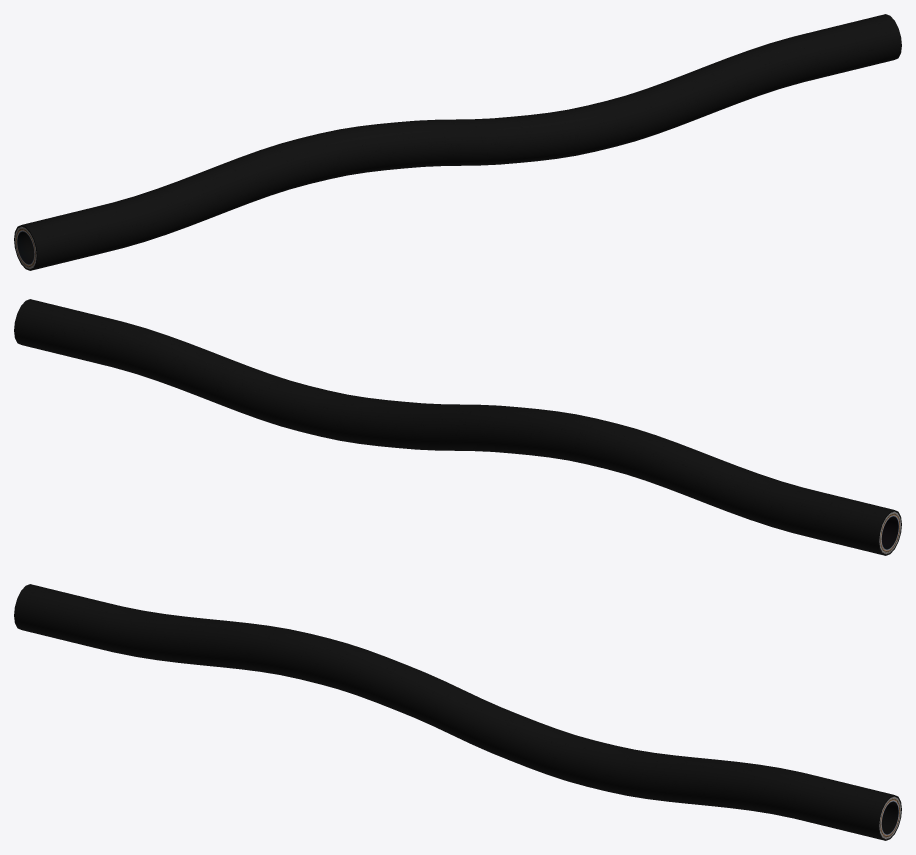
The picture shows the model from 3 angles, top to bottom: view 1: azimuth 30°, elevation 25°; view 2: azimuth 150°, elevation 25°; view 3: azimuth 330°, elevation 25°; orthographic projection.
Parts seen in each view (by area): view 1: SB_SS/TPE_Full-08, SB_SS/TPE_Cut-08, SB_SS/TPE-08; view 2: SB_SS/TPE_Full-08, SB_SS/TPE_Cut-08, SB_SS/TPE-08; view 3: SB_SS/TPE_Full-08, SB_SS/TPE_Cut-08, SB_SS/TPE-08.
Boxes of the visible parts, x1,y1,x2,y2 form: SB_SS/TPE_Full-08: (14, 14, 901, 270); SB_SS/TPE_Cut-08: (313, 101, 622, 182); SB_SS/TPE-08: (15, 226, 36, 269); SB_SS/TPE_Full-08: (14, 299, 901, 555); SB_SS/TPE_Cut-08: (293, 387, 605, 468); SB_SS/TPE-08: (879, 511, 900, 554); SB_SS/TPE_Full-08: (14, 584, 901, 840); SB_SS/TPE_Cut-08: (294, 670, 614, 776); SB_SS/TPE-08: (879, 796, 900, 839).
Size of the model in its own units: 0.3074 by 0.0272 by 0.0145.
Materials: 3 (3 with a texture image).
